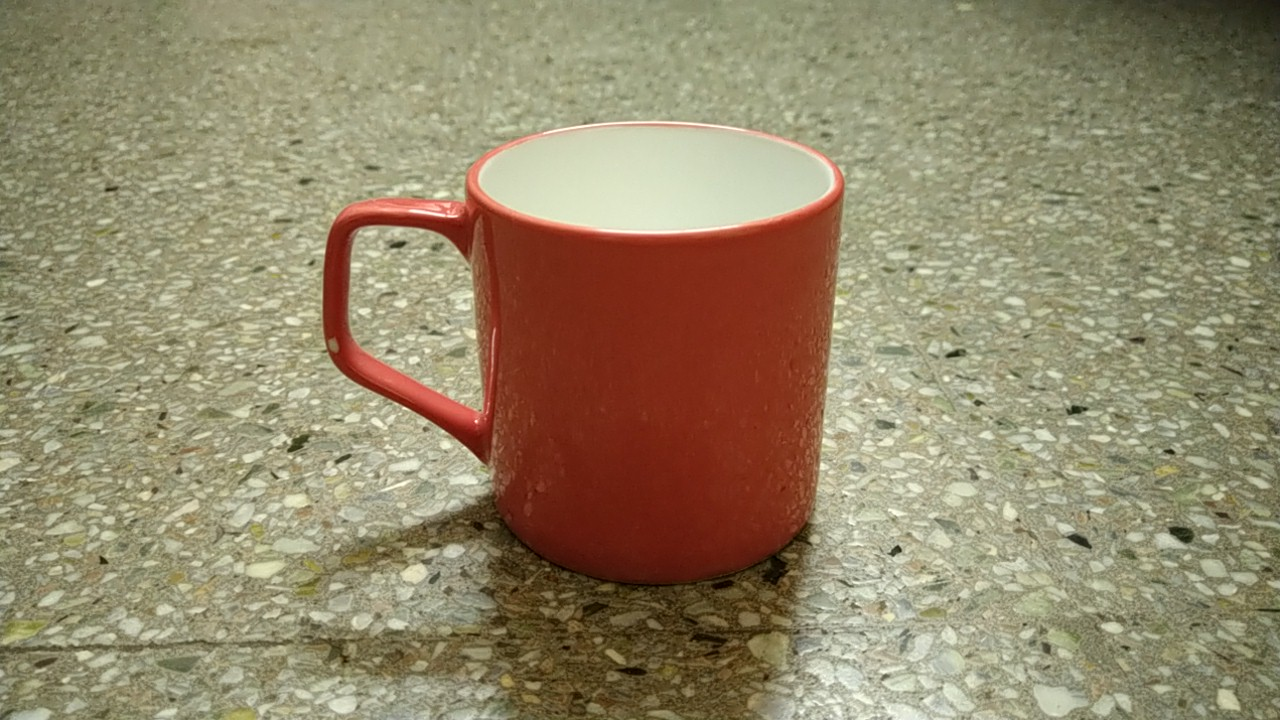cup: (309, 112, 858, 591)
